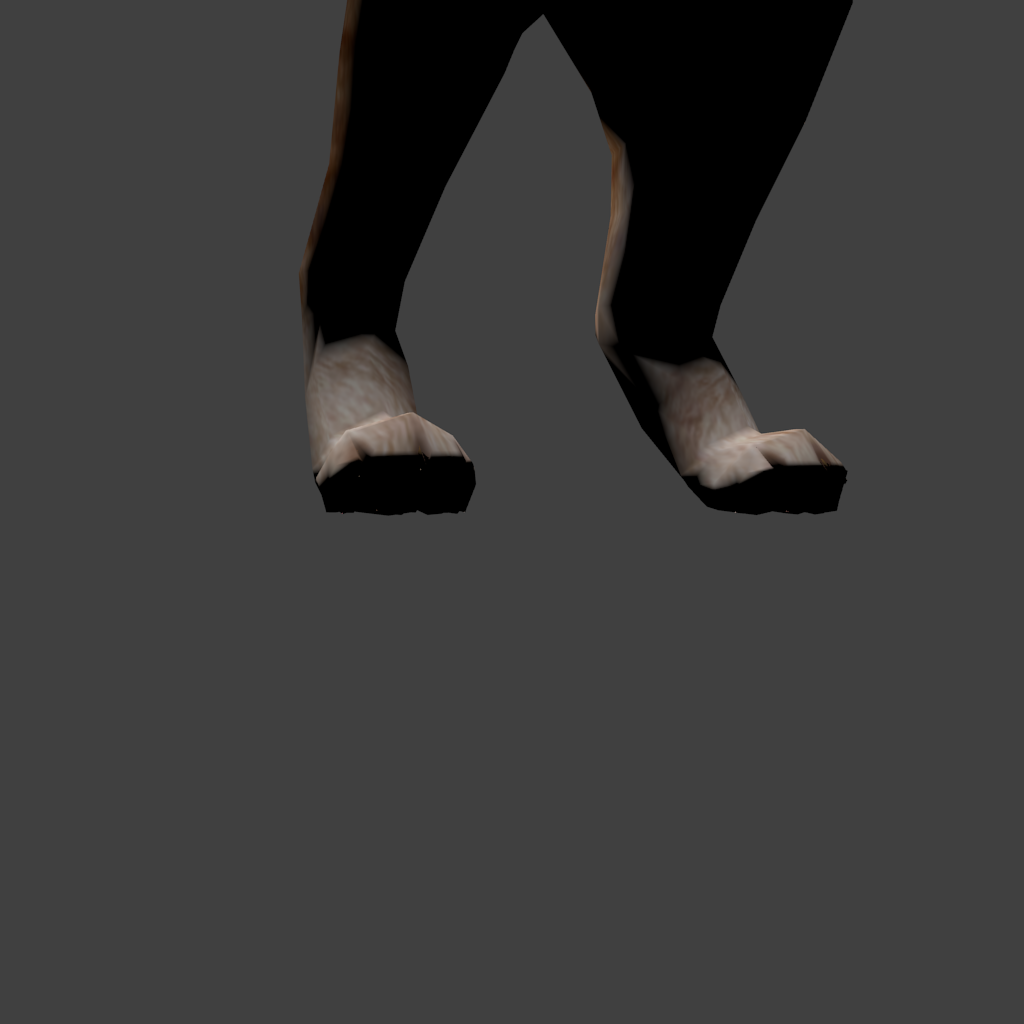Cat: (0, 0, 1024, 1024)
